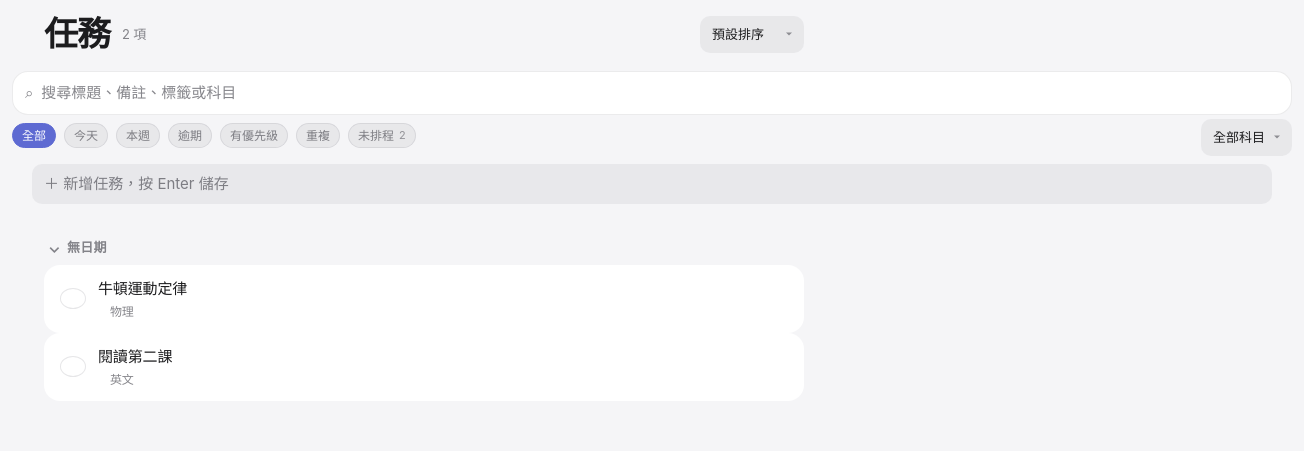
Scenario: 任務群組收合 › 照科目分堆後可個別收合與展開，不改動其他群組
Select "照科目分堆" in the dropdown named "排序方式" at (752, 34), box [700,16,804,53]
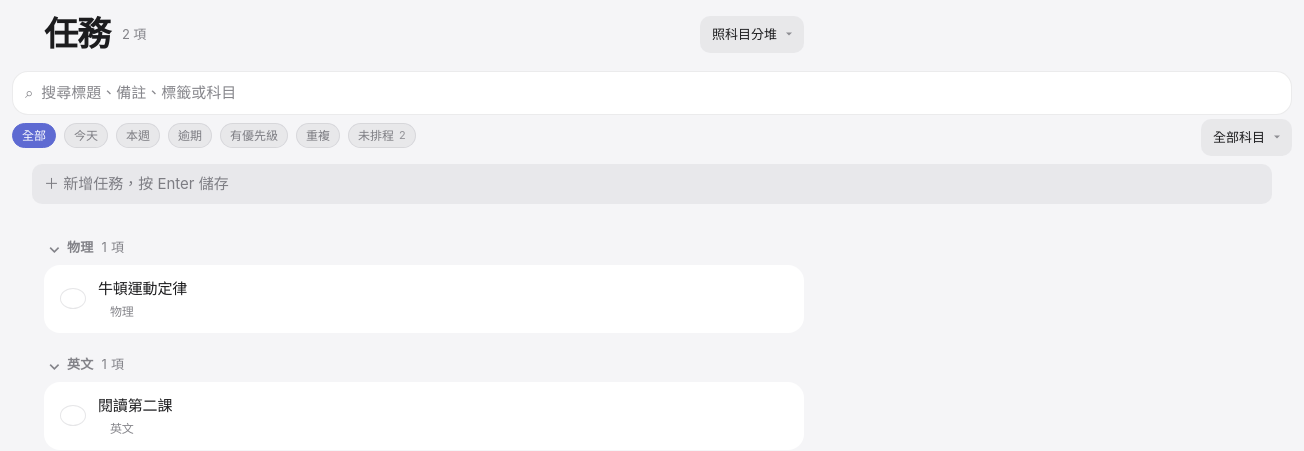
Click the button with aria-label "收合物理" at (55, 247), box [44,234,804,265]
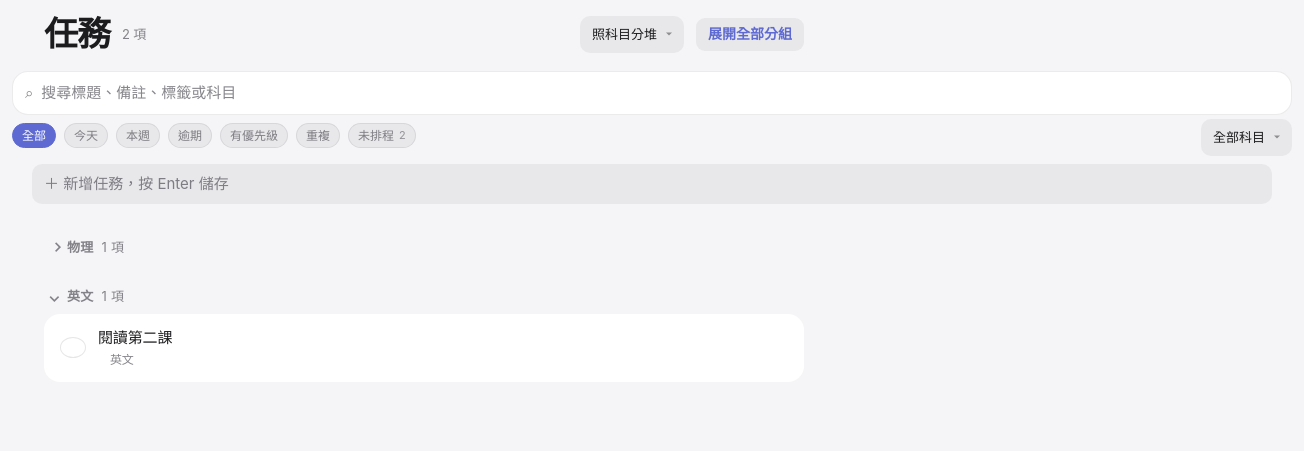
expect the text "閱讀第二課" is shown: met, box [98,328,172,347]
expect the text "牛頓運動定律" is gone: met
expect the button with aria-label "展開物理" is collapsed: met
Click the button with aria-label "展開物理" at (55, 247), box [44,234,804,265]
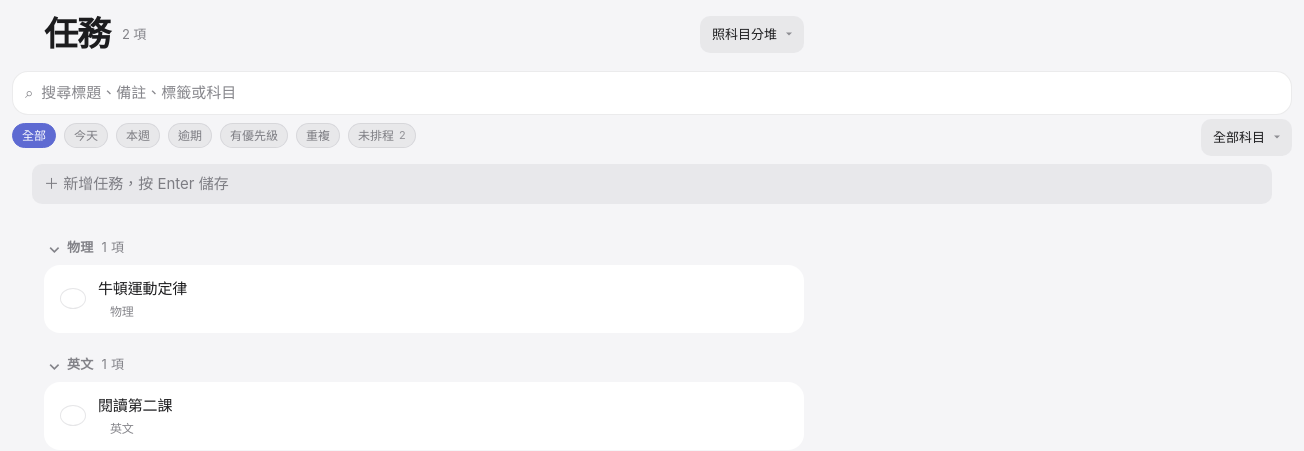
expect the text "牛頓運動定律" is shown: met, box [98,279,187,298]
